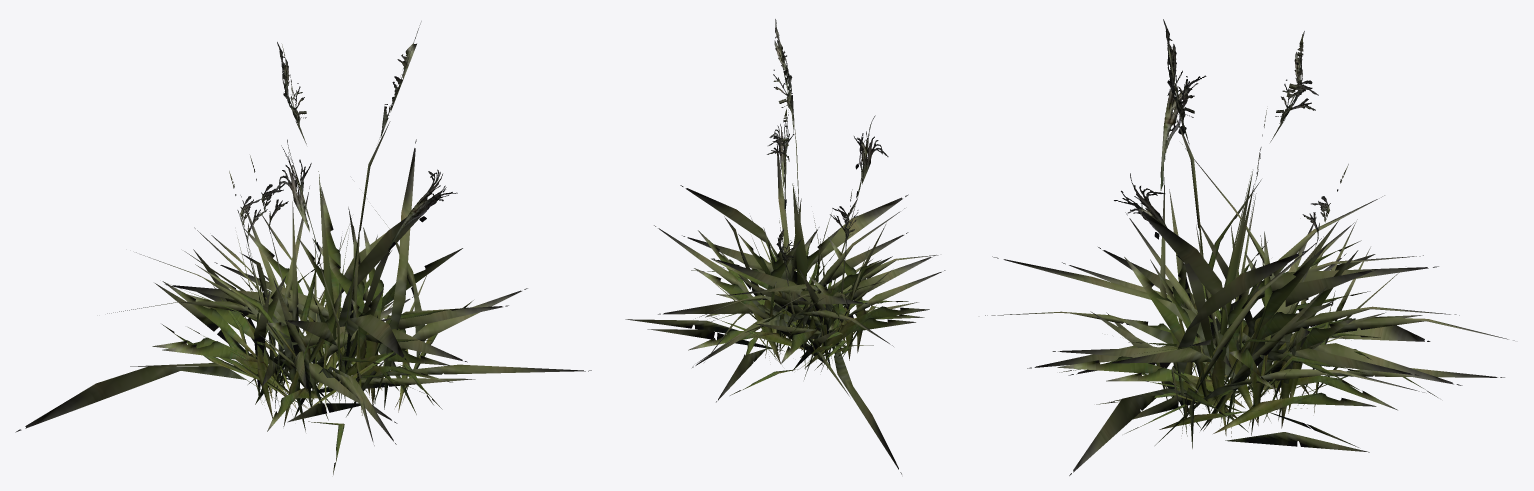
3 renders of one model, left to right at view 1: azimuth 30°, elevation 25°; view 2: azimuth 150°, elevation 25°; view 3: azimuth 270°, elevation 25°, orthographic. The views are drawn at different scales.
Parts seen in each view (by area): view 1: grass_medium_01_mid_a_LOD0; view 2: grass_medium_01_mid_a_LOD0; view 3: grass_medium_01_mid_a_LOD0.
Boxes of the visible parts, <box> form: grass_medium_01_mid_a_LOD0: <box>15,21,591,474</box>; grass_medium_01_mid_a_LOD0: <box>625,19,945,474</box>; grass_medium_01_mid_a_LOD0: <box>985,19,1514,475</box>.
Size of the model in its own units: 0.974 by 0.9789 by 1.
Materials: 1 (1 with a texture image).
